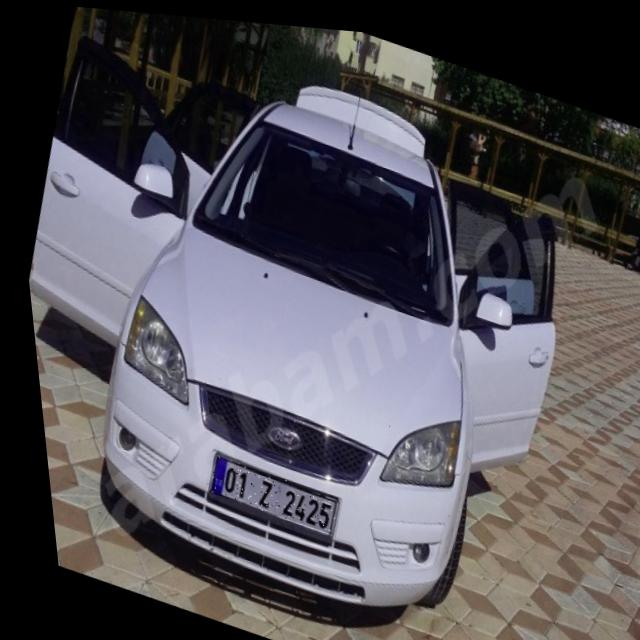license_plate: (195, 451, 330, 530)
